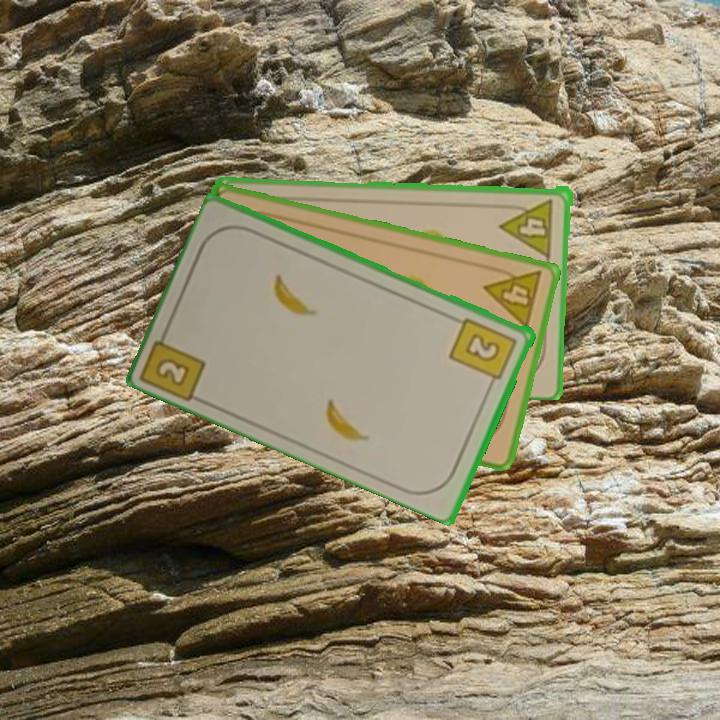2b: (446, 313, 520, 390), (140, 322, 209, 403)
4p: (480, 261, 545, 332), (498, 194, 556, 258)
